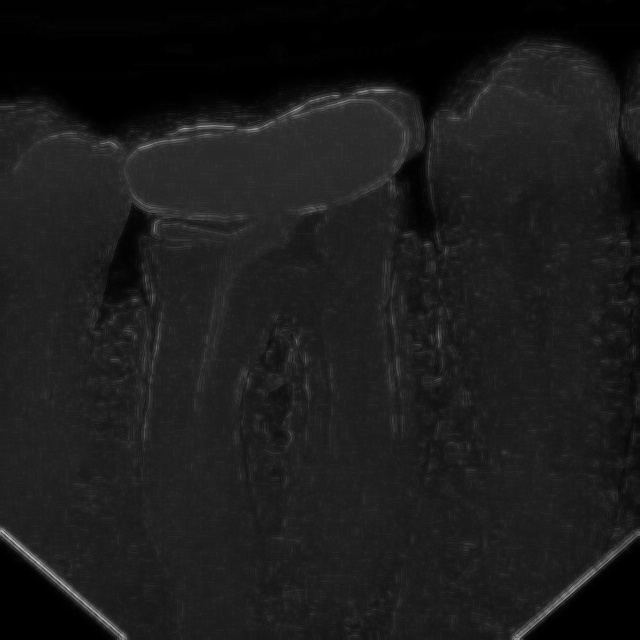Class 2- incomplete endodontic treatment: (98, 85, 473, 637)
